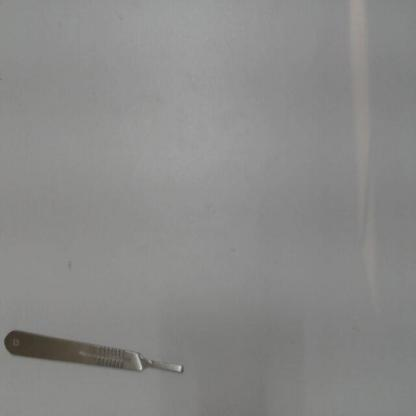No.4 BP Handle: (3, 324, 189, 388)
